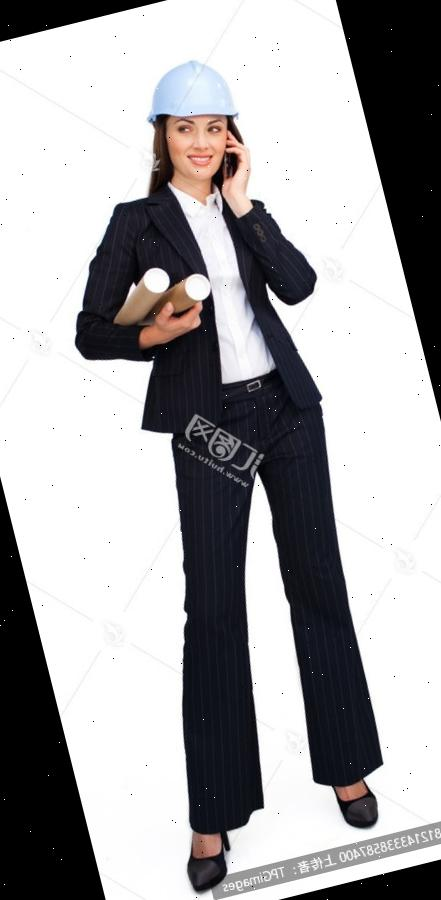helmet: (133, 45, 242, 141)
no_wear: (106, 174, 330, 430)
